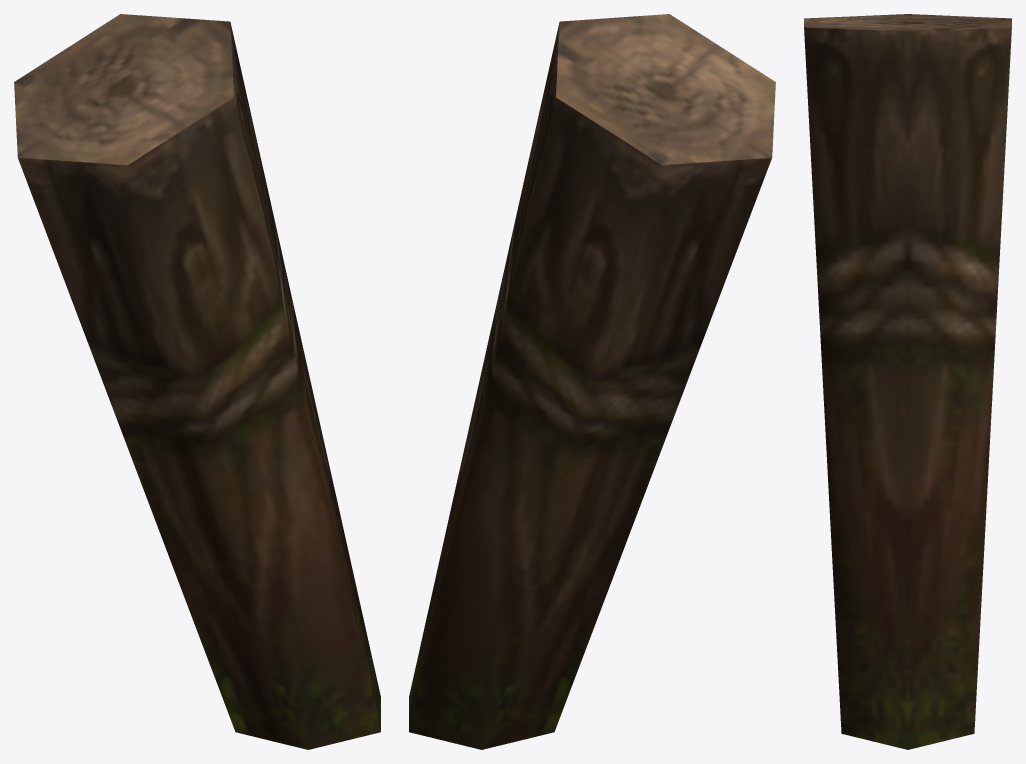
Rendered from common_yewai_muzhuang02.FBX.
3 views of the same model, side by side, from view 1: azimuth 30°, elevation 25°; view 2: azimuth 150°, elevation 25°; view 3: azimuth 270°, elevation 25° (orthographic). The views are drawn at different scales.
Parts seen in each view (by area): view 1: common_yewai_muzhuang02; view 2: common_yewai_muzhuang02; view 3: common_yewai_muzhuang02.
Part boxes in pixels (box(x1,y1,x2,y2)): common_yewai_muzhuang02: box(14, 14, 380, 749); common_yewai_muzhuang02: box(409, 14, 775, 749); common_yewai_muzhuang02: box(804, 14, 1011, 749).
Size of the model in its own units: 0.6608 by 1.24 by 0.3583.
